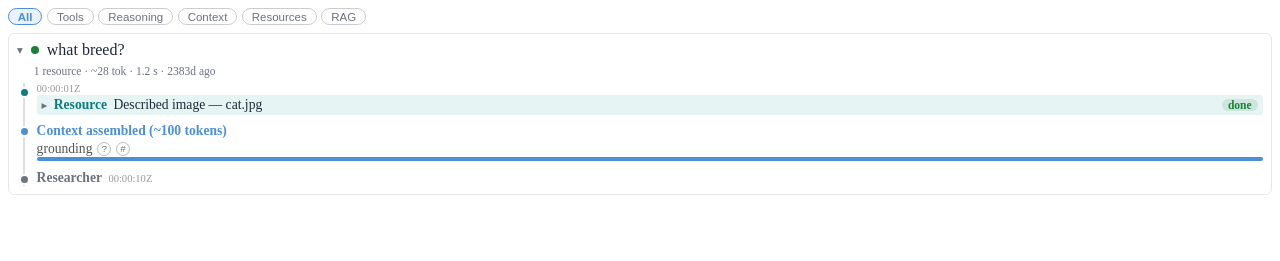
(history) persisted resource activity renders as a done resource node with model + ms
The width and height of the screenshot is (1280, 261).
Check: the text with test id "resourceio-status" reads "done", box 1228,99 -> 1252,111
Click the button with test id "resourceio-summary".
click(80, 105)  # box 42,96 -> 1258,114
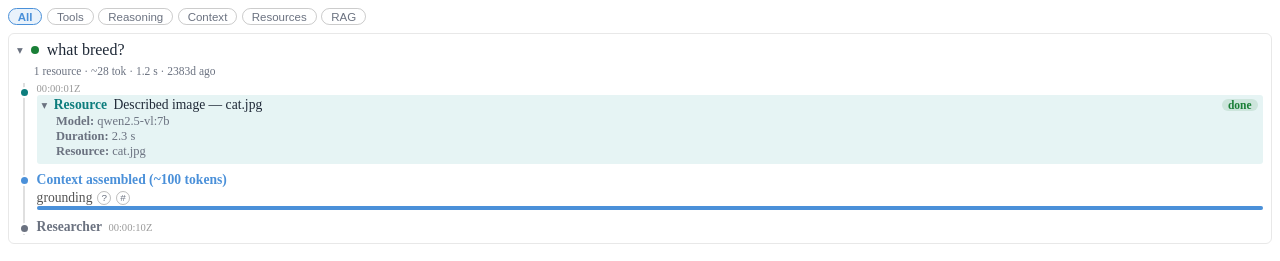
Check: the element with test id "resourceio-detail" shows "qwen2.5-vl:7b", box 97,114 -> 170,128
Check: the element with test id "resourceio-detail" shows "2.3 s", box 112,129 -> 135,143
